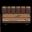Obstacle: (0, 5, 32, 28)
